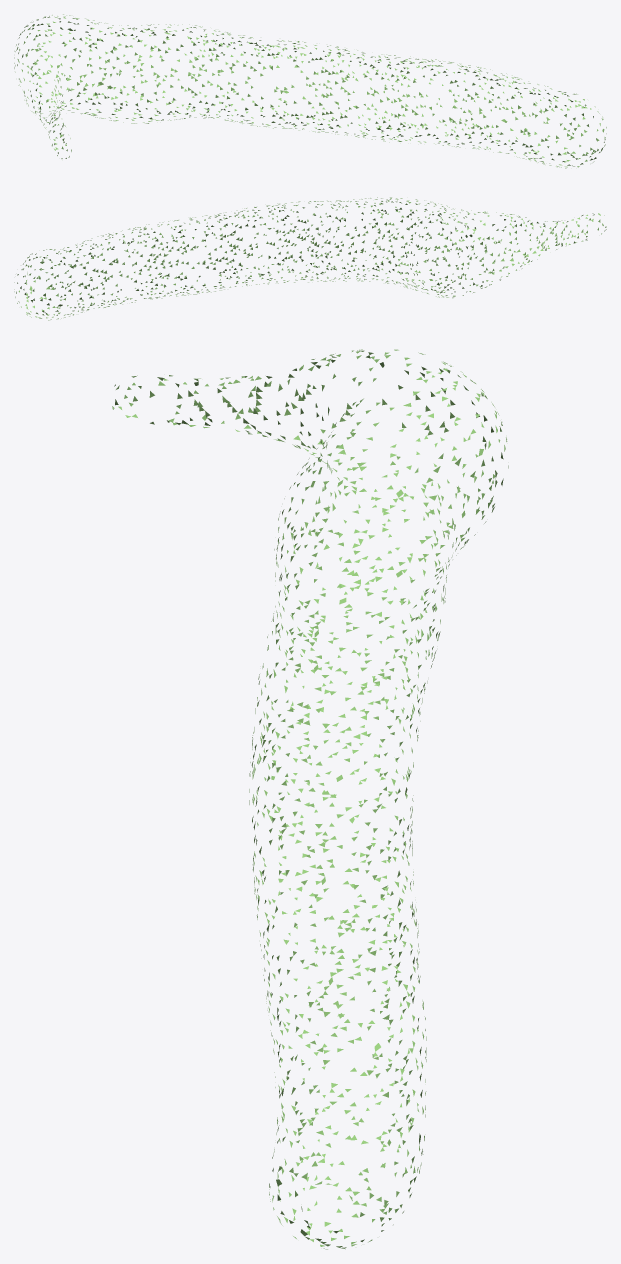
The model's file is morph_014.glb.
The picture shows the model from 3 angles, top to bottom: view 1: azimuth 30°, elevation 25°; view 2: azimuth 150°, elevation 25°; view 3: azimuth 270°, elevation 25°; orthographic projection. The views are drawn at different scales.
Bounding box in the file's own units: 125 × 49.97 × 40.18.
